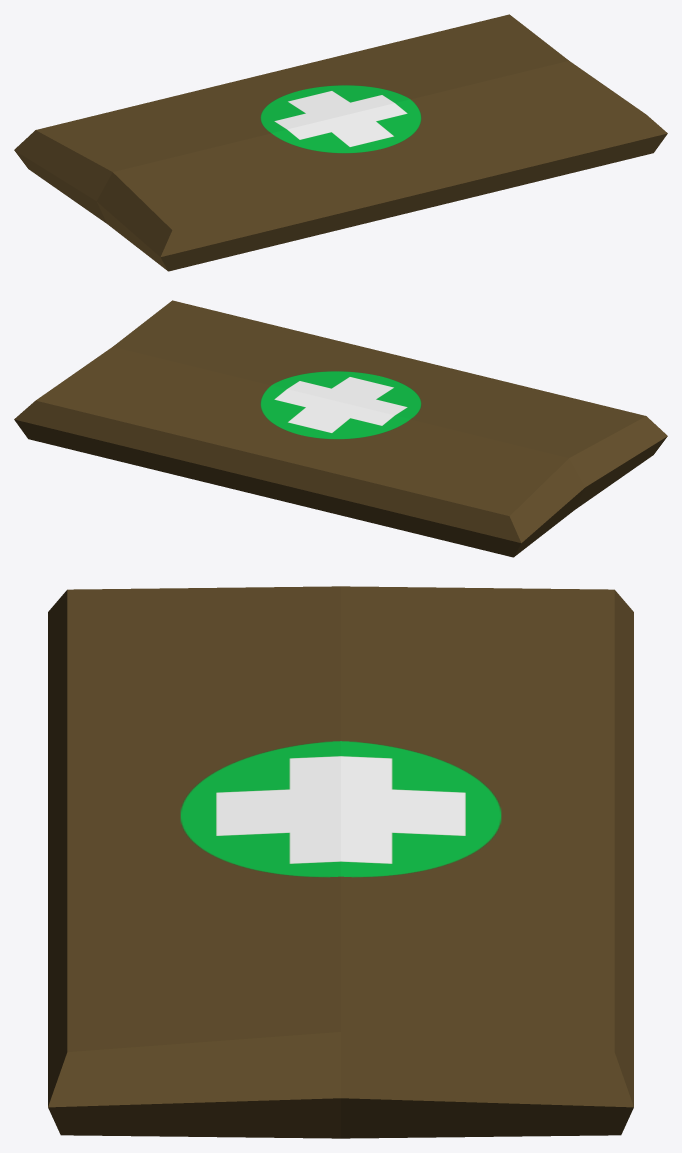
File: medkit.glb
3 views of the same model, one above another, from view 1: azimuth 30°, elevation 25°; view 2: azimuth 150°, elevation 25°; view 3: azimuth 270°, elevation 25° (orthographic). The views are drawn at different scales.
Visible parts, largest first — view 1: Cube; view 2: Cube; view 3: Cube.
Part boxes in pixels (x1,y1,x2,y2): Cube: [14, 14, 667, 271]; Cube: [14, 300, 667, 557]; Cube: [48, 586, 633, 1138].
Size of the model in its own units: 1.67 by 0.16 by 0.8365.
Materials: 2 (1 with a texture image).
